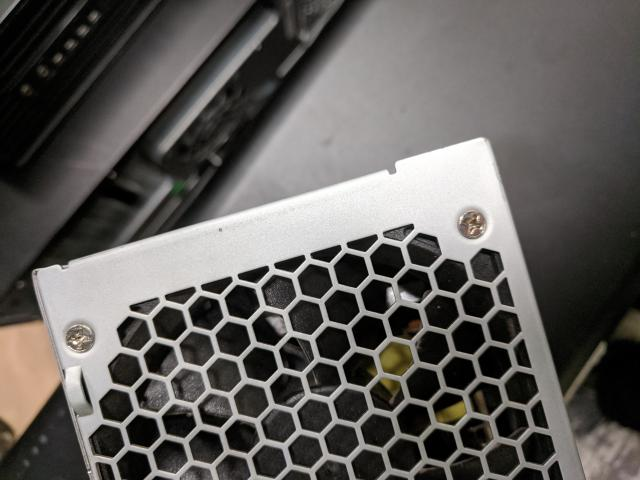CRS: (63, 324, 95, 355), (458, 208, 487, 240)
